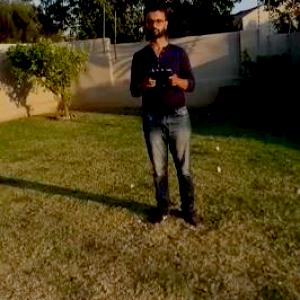follow: (125, 0, 211, 234)
